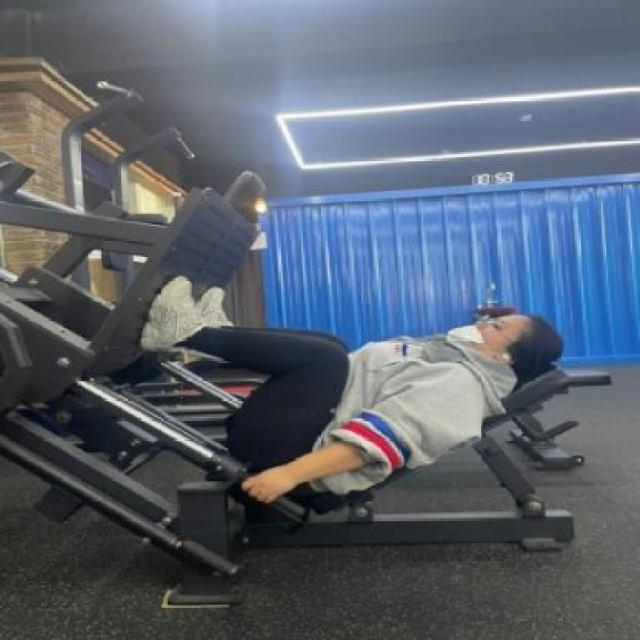leg press: (0, 137, 617, 620)
